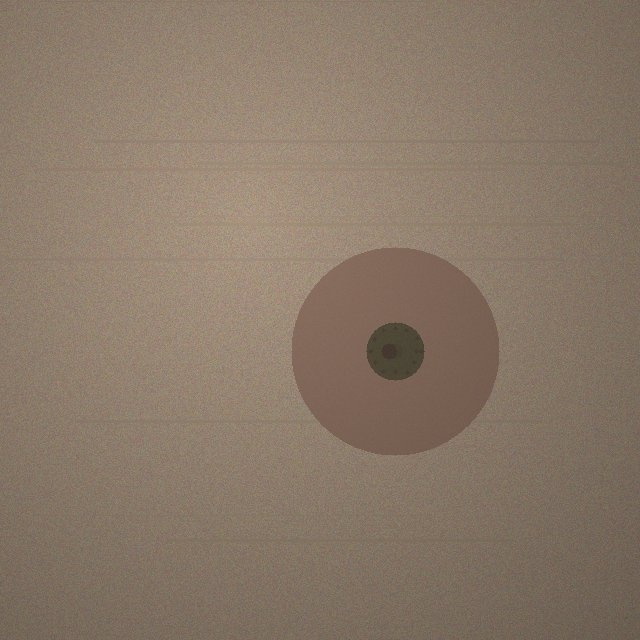cold_weld: (291, 247, 499, 455)
